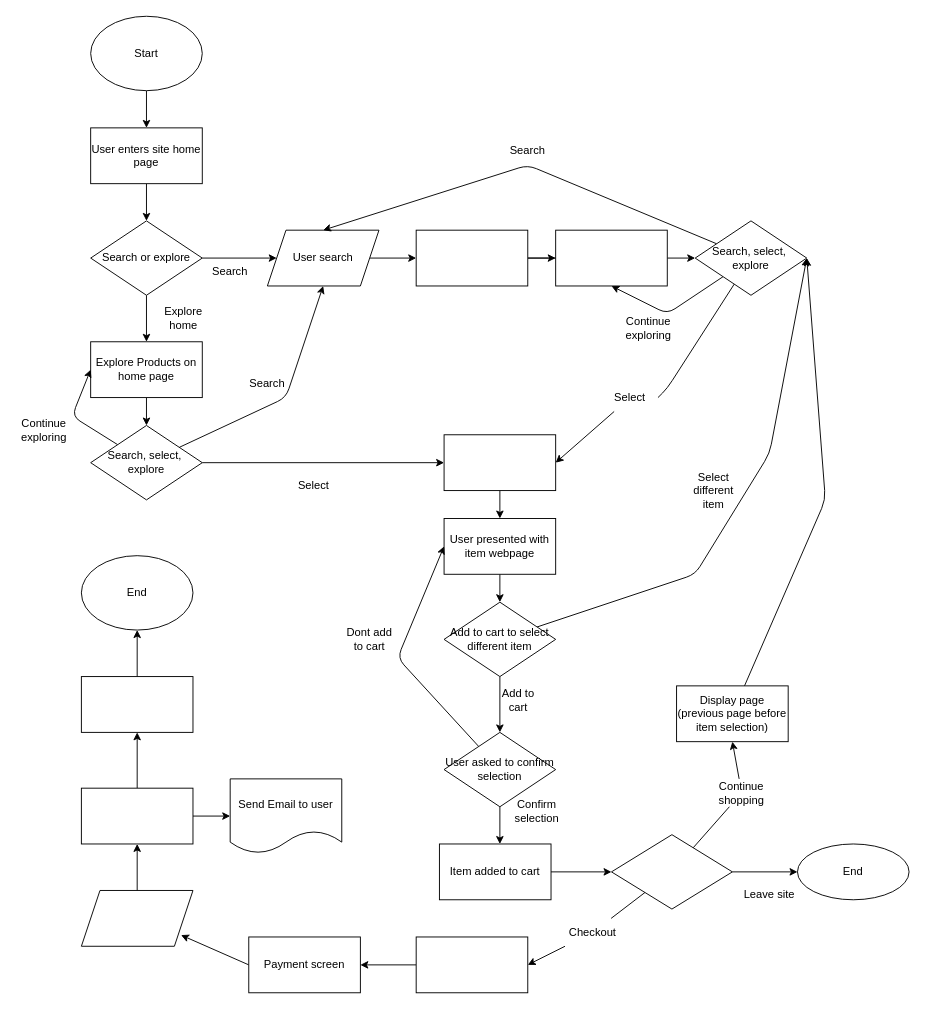
Image size: 925x1009. Some labels were removed from this diagram. The centre of each missing label's shape, as x and y in pixels:
Checkout, continue shopping, or leave?: pixel 671 871
Display cart screen: pixel 471 964
Payment complete and order confirmation screen: pixel 136 815
Update page based on query: pixel 471 257
User explores page: pixel 611 257
User inputs payment info: pixel 136 918
User leaves site: pixel 136 704
User views item: pixel 499 462
